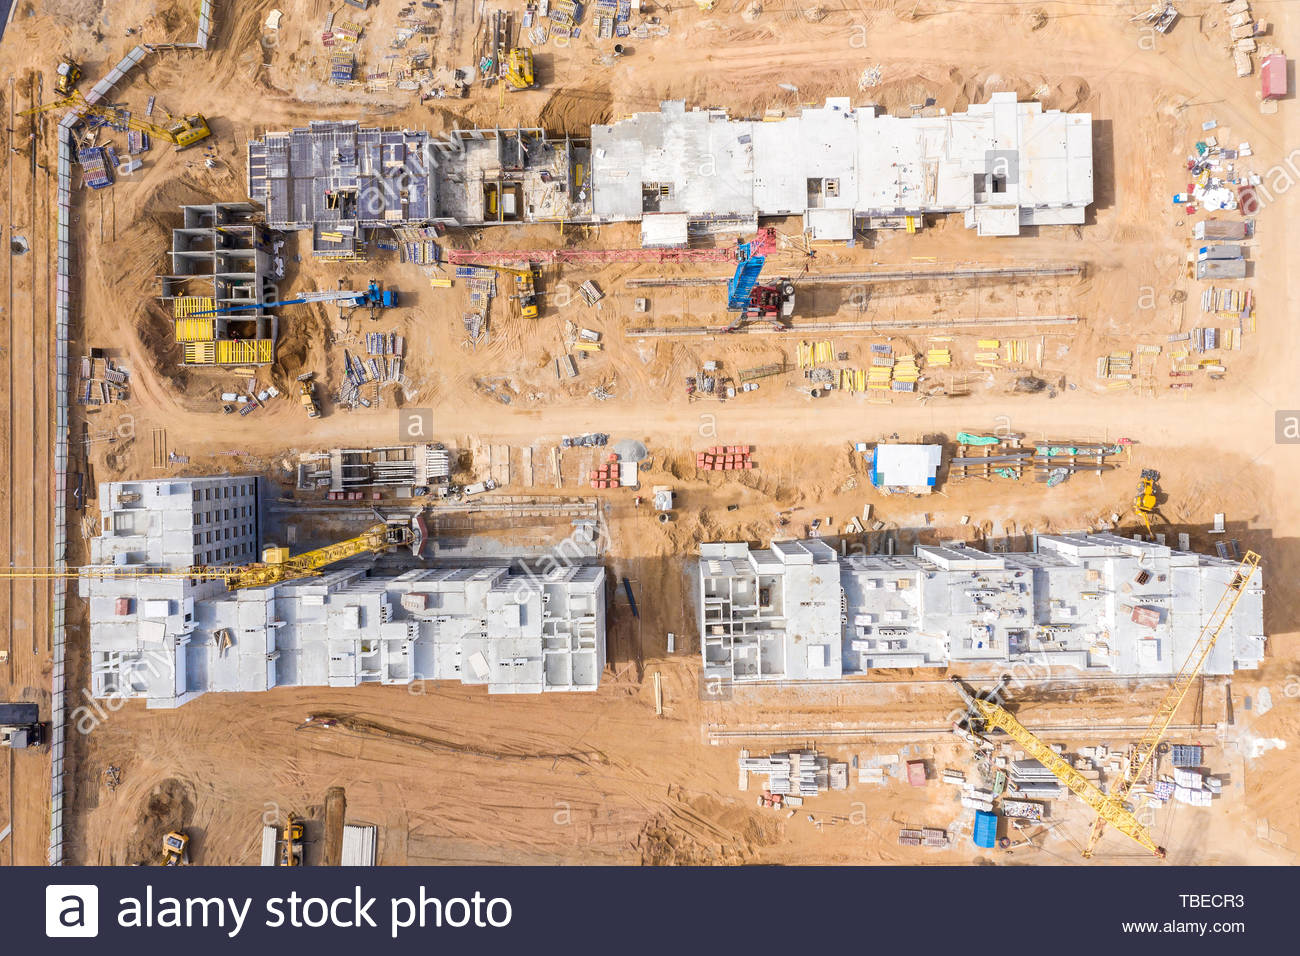crane: (969, 548, 1261, 853), (1, 525, 397, 592), (448, 249, 769, 310)
